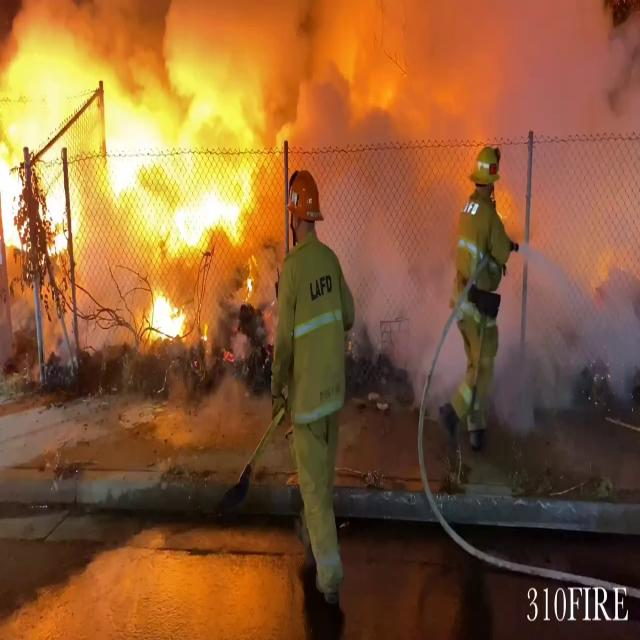Fire: (0, 2, 277, 343), (141, 284, 193, 344)
Smoke: (243, 0, 640, 393)
